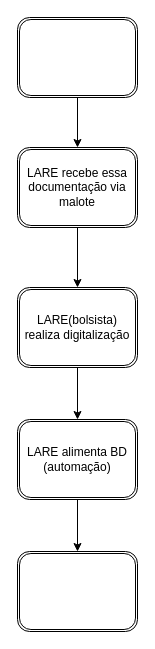
Some shapes in this 155 by 649 pixel diagram are drawn without their labels. Each missing label, with the box of its shape:
Coordenação dos Cursos recebem documentações dos alunos: (16, 16, 138, 98)
PROGRAD(ADM) busca dados no BD: (16, 550, 138, 632)
